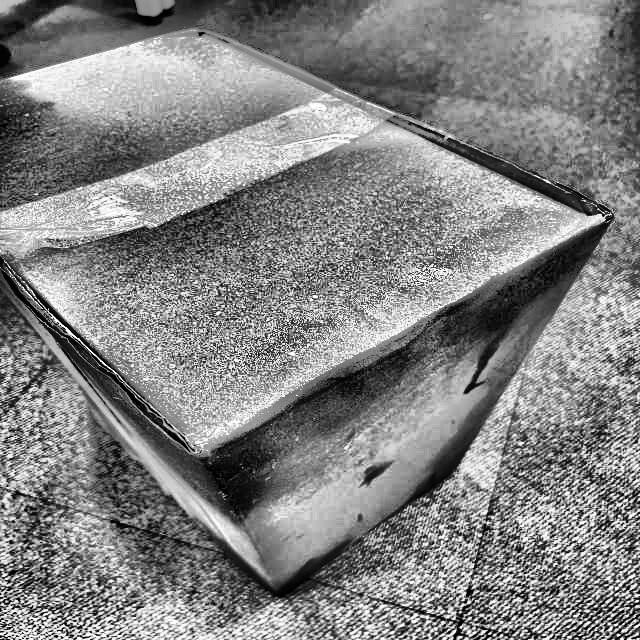box: (0, 31, 622, 597)
wet: (321, 104, 622, 382), (65, 226, 298, 534)
